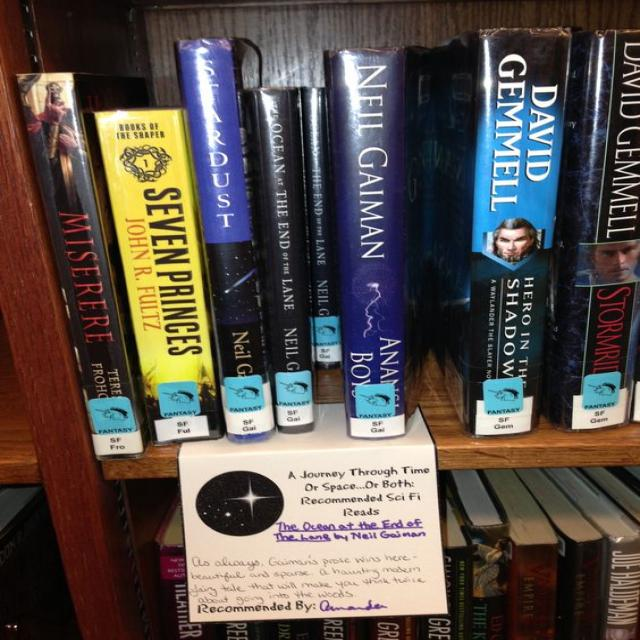book: (18, 71, 145, 463), (95, 109, 222, 447), (471, 26, 573, 437), (176, 34, 276, 446), (566, 26, 640, 430), (332, 49, 407, 438), (249, 88, 317, 435), (300, 86, 340, 369)
